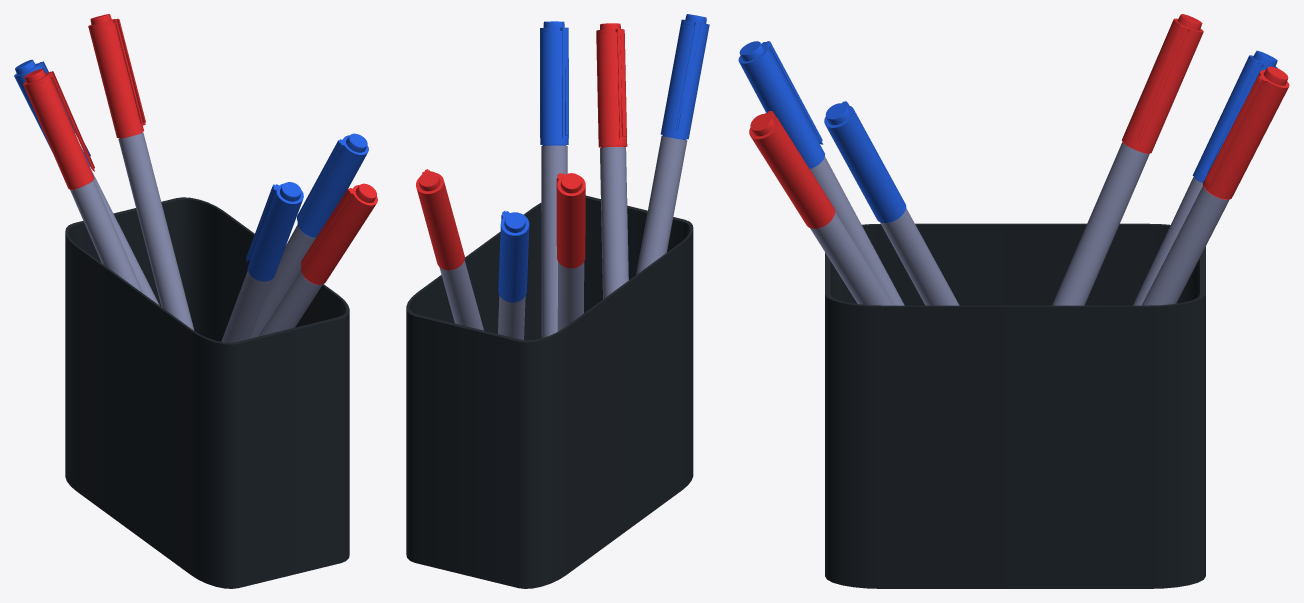
File: PenHolder.glb
3 renders of one model, left to right at view 1: azimuth 30°, elevation 25°; view 2: azimuth 150°, elevation 25°; view 3: azimuth 270°, elevation 25°, orthographic. The views are drawn at different scales.
Parts seen in each view (by area): view 1: Cube.077; view 2: Cube.077; view 3: Cube.077.
Part boxes in pixels (x1,y1,x2,y2): Cube.077: (14, 14, 377, 588); Cube.077: (406, 14, 709, 588); Cube.077: (738, 14, 1289, 588).
Bounding box in the file's own units: 0.1043 × 0.2184 × 0.2241.
